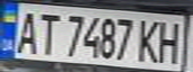4: (78, 12, 100, 60)
7: (60, 11, 84, 57), (115, 15, 139, 61)
8: (97, 13, 118, 60)
A: (12, 8, 42, 55)
H: (154, 18, 187, 64)
K: (133, 17, 163, 64)
T: (33, 9, 60, 56)
